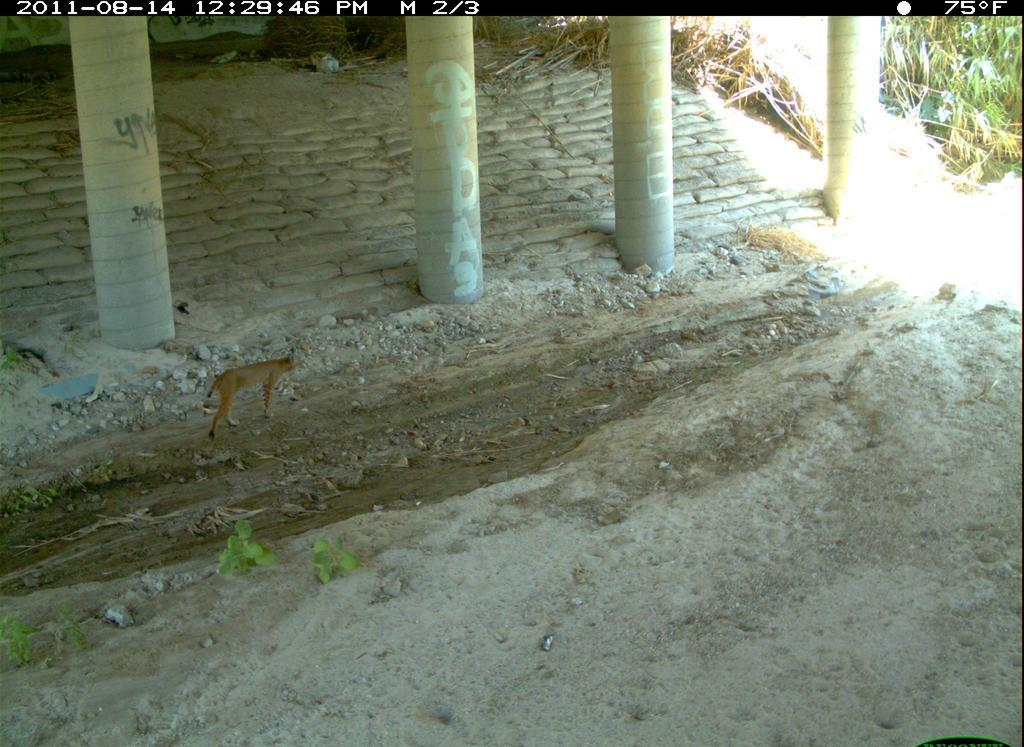bobcat: (406, 685, 623, 747)
